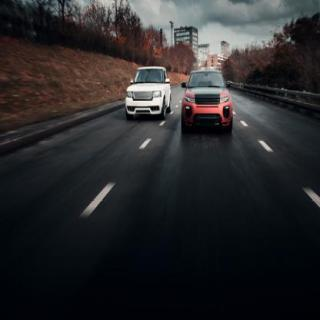Normal_vehicle: (181, 67, 234, 133), (125, 66, 171, 119)
